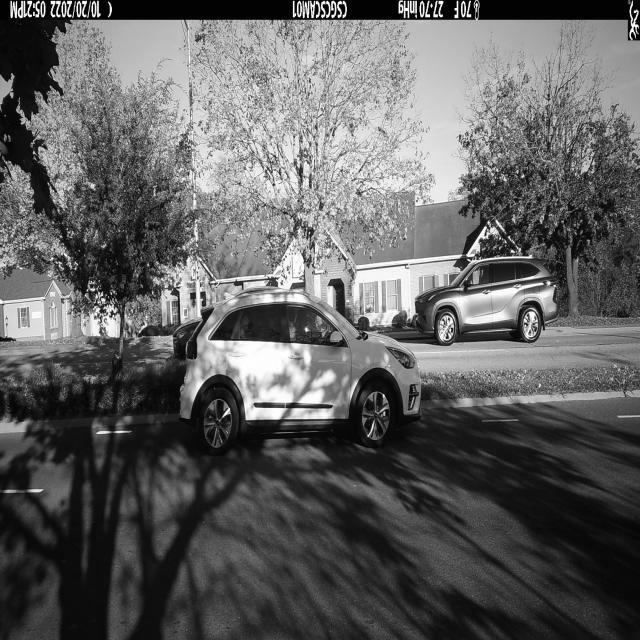SUV: (178, 287, 421, 456)
